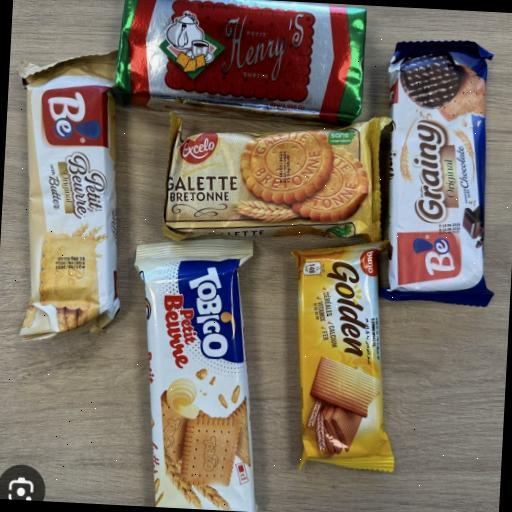henry-s: (84, 0, 394, 163)
